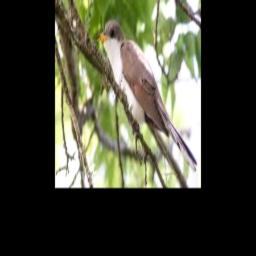Cuckoo: (95, 21, 197, 172)
